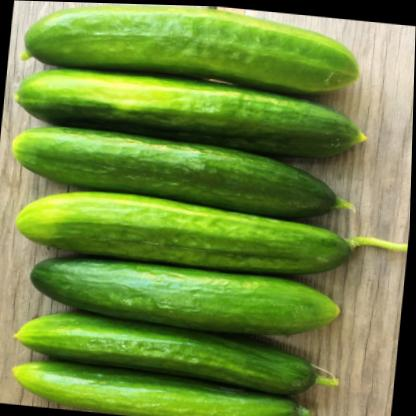cucumber: (0, 183, 369, 282), (6, 123, 352, 223), (15, 0, 373, 96), (2, 64, 368, 156), (19, 248, 352, 341), (5, 311, 349, 390), (0, 357, 327, 416)
